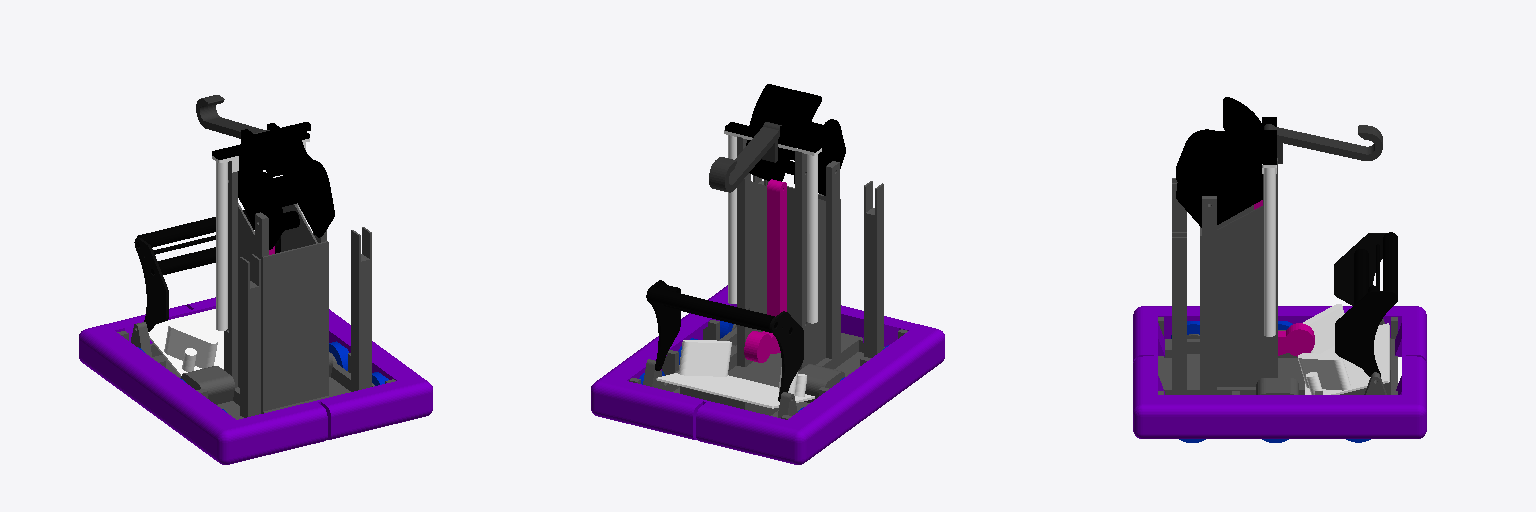
The picture shows the model from 3 angles: view 1: azimuth 30°, elevation 25°; view 2: azimuth 150°, elevation 25°; view 3: azimuth 270°, elevation 25°; orthographic projection.
Visible parts, largest first — view 1: Main_body, Bumpers, Shooter_wheels, Shooter_wheelless, V_hopper, Intake_motor, Climber_pistons, Intake_motorless, Hook; view 2: Main_body, Bumpers, V_hopper, Belt, Intake_motor, Climber_pistons, Shooter_wheelless, Hook, Shooter_wheels, Intake_motorless, Climber_plate; view 3: Main_body, Bumpers, Shooter_wheels, Intake_motor, V_hopper, Hook, Climber_pistons, Intake_motorless, Shooter_wheelless, Belt, Climber_plate.
Boxes of the visible parts, x1,y1,x2,y2 form: Main_body: [117, 161, 395, 419]; Bumpers: [79, 297, 432, 464]; Shooter_wheels: [263, 122, 334, 237]; Shooter_wheelless: [238, 128, 299, 249]; V_hopper: [148, 309, 223, 375]; Intake_motor: [136, 210, 280, 274]; Climber_pistons: [212, 138, 309, 330]; Intake_motorless: [134, 237, 168, 331]; Hook: [196, 95, 269, 138]; Main_body: [629, 136, 907, 419]; Bumpers: [591, 285, 944, 464]; V_hopper: [656, 340, 814, 408]; Belt: [744, 179, 786, 362]; Intake_motor: [646, 280, 791, 370]; Climber_pistons: [724, 130, 821, 323]; Shooter_wheelless: [777, 90, 845, 195]; Hook: [709, 122, 781, 192]; Shooter_wheels: [746, 84, 833, 181]; Intake_motorless: [770, 311, 803, 401]; Climber_plate: [725, 115, 821, 152]; Main_body: [1158, 158, 1397, 394]; Bumpers: [1133, 306, 1426, 438]; Shooter_wheels: [1176, 110, 1263, 227]; Intake_motor: [1335, 232, 1397, 376]; V_hopper: [1298, 304, 1389, 394]; Hook: [1264, 124, 1382, 163]; Climber_pistons: [1262, 164, 1276, 336]; Intake_motorless: [1334, 233, 1385, 305]; Shooter_wheelless: [1176, 97, 1261, 181]; Belt: [1254, 200, 1314, 356]; Climber_plate: [1262, 117, 1276, 164].
Bounding box in the file's own units: 83.57 × 109 × 98.81.